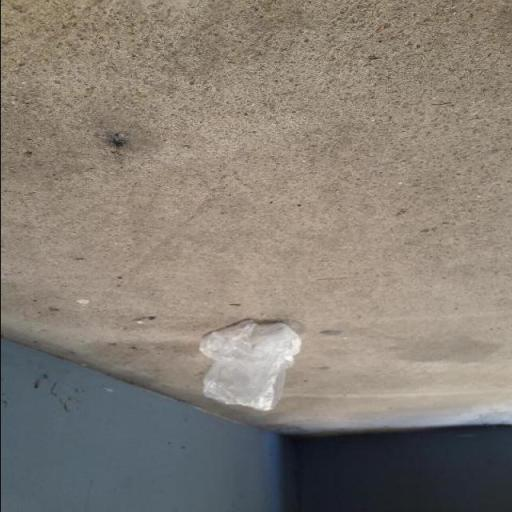plastic-bag: (197, 317, 305, 414)
